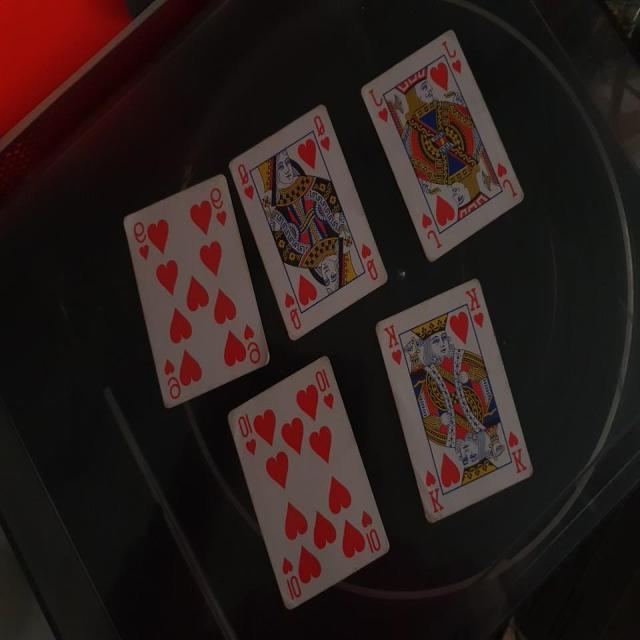10 of hearts: (224, 349, 414, 619)
9 of hearts: (120, 165, 275, 402)
jack of hearts: (362, 25, 536, 276)
king of hearts: (373, 276, 544, 534)
queen of hearts: (230, 90, 398, 340)
